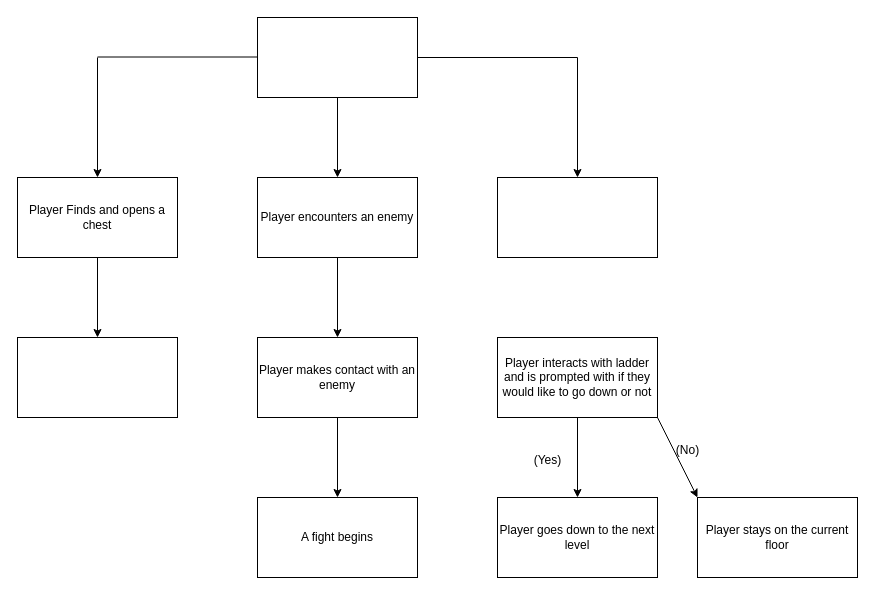
Some shapes in this 875 by 595 pixel diagram are drawn without their labels. Here are the shapes that lost their labels. From the top down, the centre of each, then its label:
point 337,57: Player enters floor from ladder
point 577,217: Player finds ladder to next level
point 97,377: Player receives a random item from a pool of items
